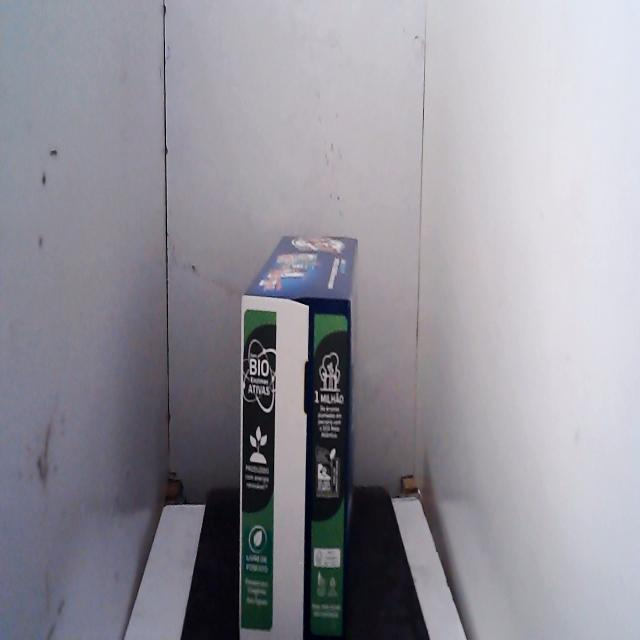paper: (206, 207, 385, 640)
